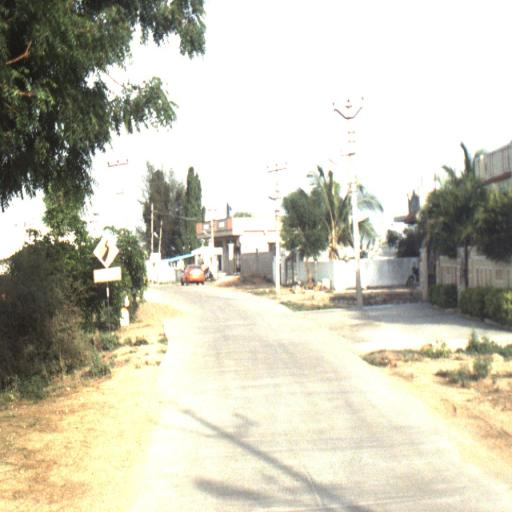street_light_0: (328, 159, 358, 197), (268, 196, 282, 222), (202, 231, 214, 243), (153, 231, 160, 244)
